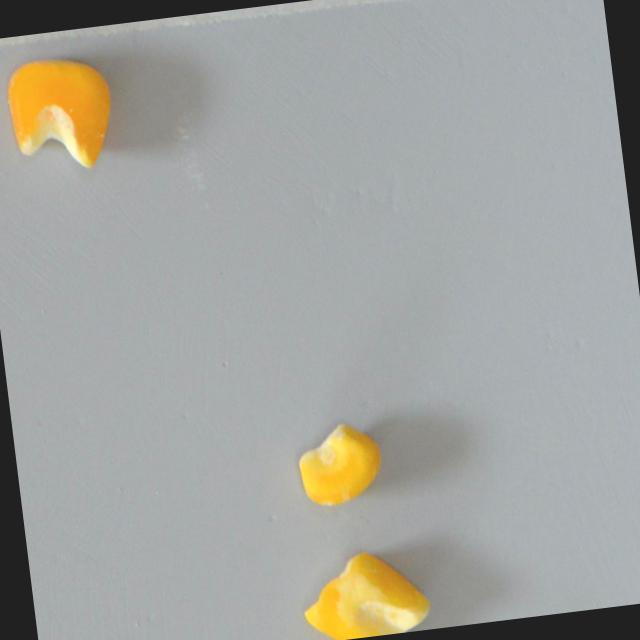no_canjicado: (0, 50, 119, 177), (296, 543, 433, 640), (290, 413, 386, 510)
